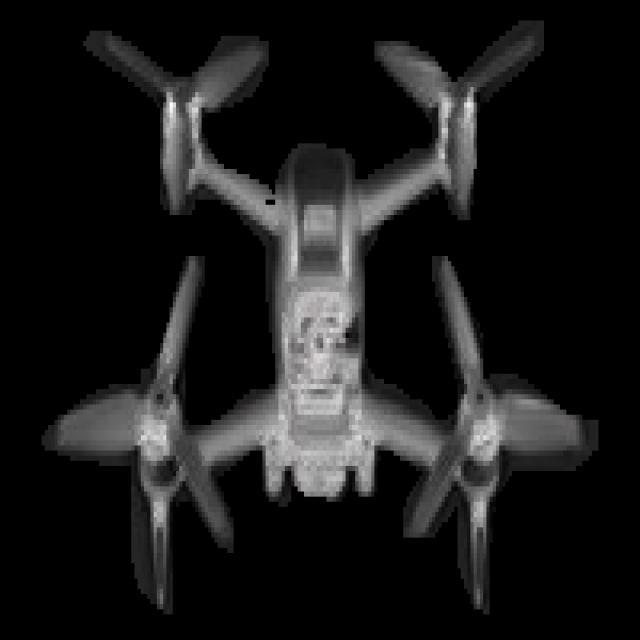drone: (39, 9, 626, 621)
